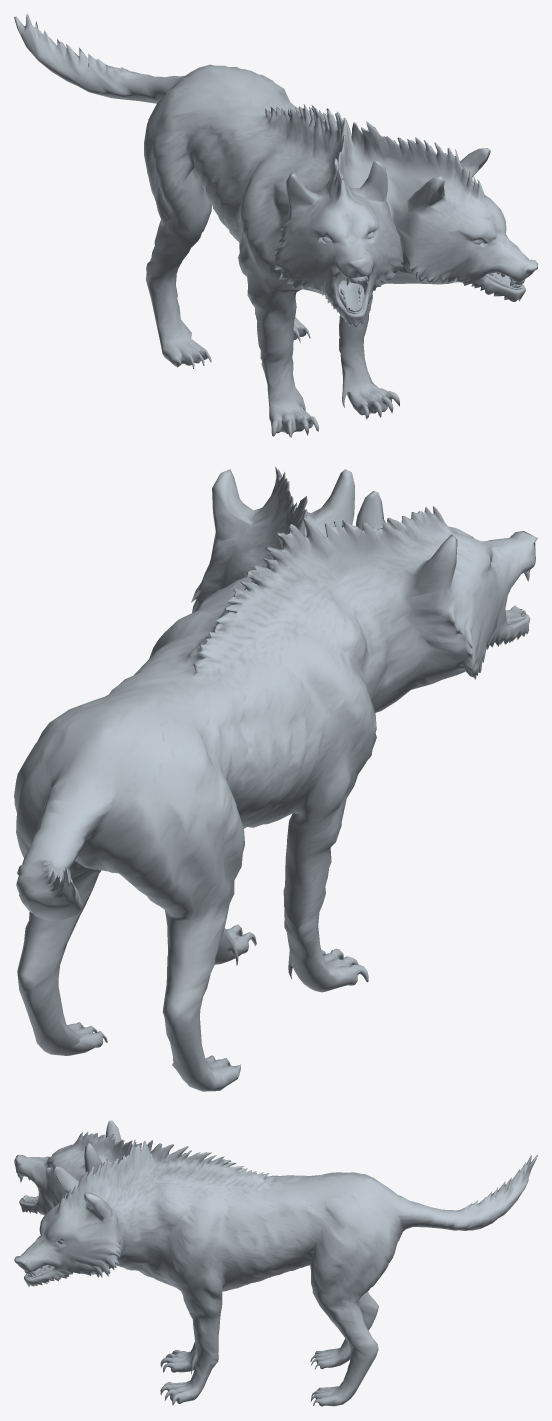
The model's file is cerberus.glb.
The picture shows the model from 3 angles, top to bottom: view 1: azimuth 30°, elevation 25°; view 2: azimuth 150°, elevation 25°; view 3: azimuth 270°, elevation 25°; orthographic projection. The views are drawn at different scales.
Visible parts, largest first — view 1: Wolfey2.001; view 2: Wolfey2.001; view 3: Wolfey2.001.
Part boxes in pixels (left/top/right/bottom): Wolfey2.001: left=14, top=14, right=537, bottom=437; Wolfey2.001: left=14, top=467, right=537, bottom=1091; Wolfey2.001: left=14, top=1120, right=537, bottom=1406.
Size of the model in its own units: 48.08 by 72.1 by 138.
1 material, 1 textured.
